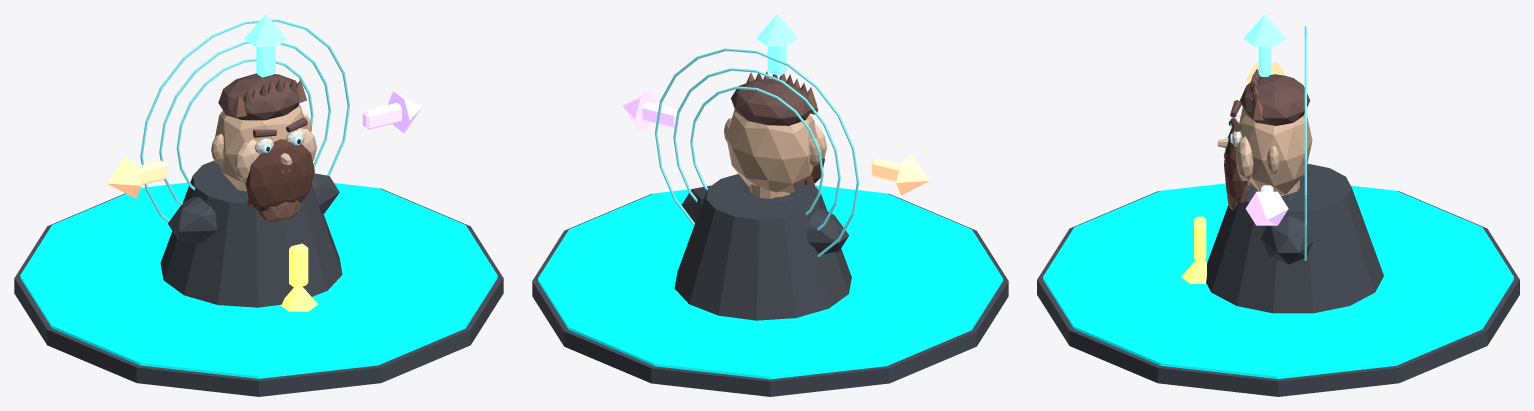
Rendered from nod.glb.
3 views of the same model, side by side, from view 1: azimuth 30°, elevation 25°; view 2: azimuth 150°, elevation 25°; view 3: azimuth 270°, elevation 25° (orthographic). The views are drawn at different scales.
Visible parts, largest first — view 1: Stage_Trim, NodTorso, Stage_Platform, NodBeardMass, NodHairCap, NodSkull, NodShoulders, NodRadar_2, NodRadar_1, NodArrow_right_Head, NodArrow_up_Head, NodArrow_down_Shaft (+8 smaller); view 2: Stage_Trim, NodTorso, Stage_Platform, NodSkull, NodHairCap, NodShoulders, NodRadar_2, NodRadar_1, NodRadar_0, NodArrow_right_Head, NodArrow_up_Head, NodArrow_left_Shaft (+3 smaller); view 3: Stage_Trim, NodTorso, Stage_Platform, NodSkull, NodHairCap, NodShoulders, NodArrow_left_Head, NodBeardMass, NodArrow_up_Head, NodRadar_2, NodCheek_R, NodArrow_down_Shaft (+1 smaller).
Boxes of the visible parts, left/top/right/bottom form: Stage_Trim: left=20, top=182, right=497, bottom=378; NodTorso: left=160, top=160, right=342, bottom=307; Stage_Platform: left=14, top=188, right=503, bottom=396; NodBeardMass: left=245, top=139, right=314, bottom=211; NodHairCap: left=218, top=73, right=299, bottom=120; NodSkull: left=215, top=104, right=307, bottom=191; NodShoulders: left=168, top=173, right=339, bottom=243; NodRadar_2: left=140, top=19, right=349, bottom=222; NodRadar_1: left=159, top=41, right=330, bottom=205; NodArrow_right_Head: left=107, top=156, right=141, bottom=198; NodArrow_up_Head: left=244, top=14, right=287, bottom=46; NodArrow_down_Shaft: left=289, top=243, right=308, bottom=287; Stage_Trim: left=538, top=185, right=1002, bottom=379; NodTorso: left=674, top=174, right=851, bottom=320; Stage_Platform: left=532, top=193, right=1008, bottom=396; NodSkull: left=726, top=109, right=817, bottom=192; NodHairCap: left=731, top=79, right=813, bottom=125; NodShoulders: left=682, top=185, right=848, bottom=254; NodRadar_2: left=655, top=48, right=859, bottom=257; NodRadar_1: left=673, top=68, right=840, bottom=230; NodRadar_0: left=690, top=86, right=823, bottom=215; NodArrow_right_Head: left=896, top=155, right=929, bottom=195; NodArrow_up_Head: left=756, top=14, right=798, bottom=46; NodArrow_left_Shaft: left=642, top=102, right=680, bottom=128; Stage_Trim: left=1043, top=183, right=1513, bottom=378; NodTorso: left=1206, top=163, right=1383, bottom=313; Stage_Platform: left=1037, top=191, right=1519, bottom=396; NodSkull: left=1239, top=107, right=1312, bottom=194; NodHairCap: left=1240, top=74, right=1310, bottom=125; NodShoulders: left=1261, top=188, right=1313, bottom=264; NodArrow_left_Head: left=1245, top=191, right=1288, bottom=225; NodBeardMass: left=1224, top=127, right=1247, bottom=202; NodArrow_up_Head: left=1243, top=14, right=1286, bottom=46; NodRadar_2: left=1304, top=26, right=1306, bottom=260; NodCheek_R: left=1236, top=136, right=1253, bottom=180; NodArrow_down_Shaft: left=1194, top=216, right=1206, bottom=260.
Size of the model in its own units: 8.5 by 5.46 by 8.5.
